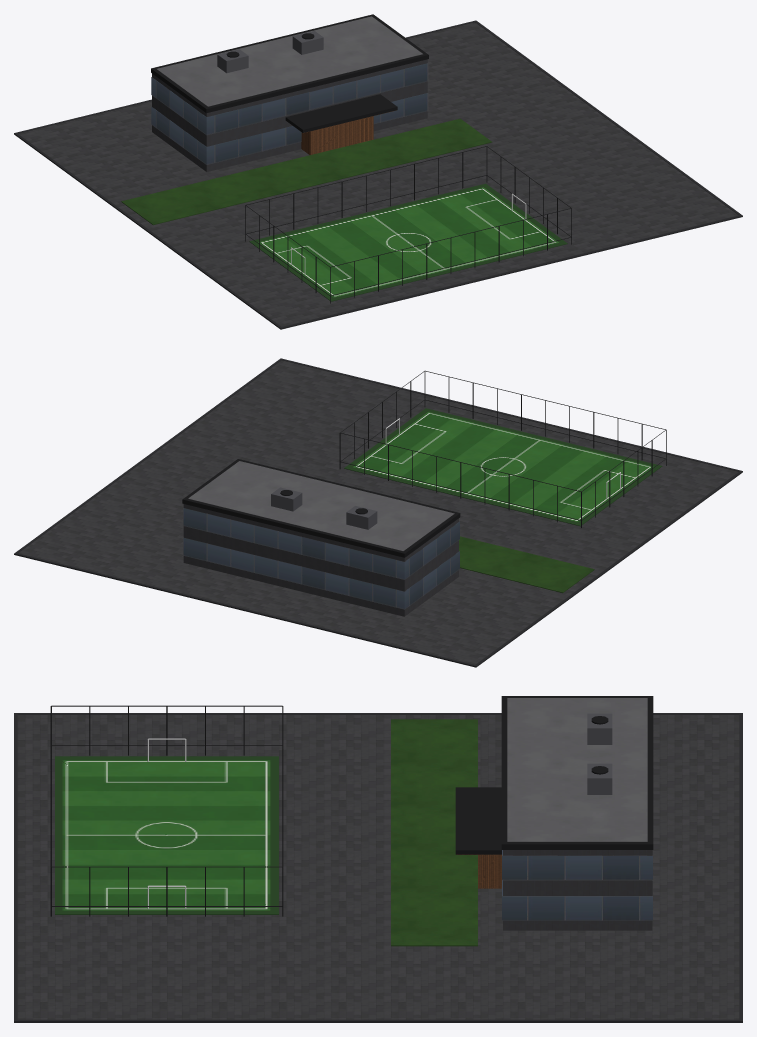
Rendered from academy_L1.glb.
3 renders of one model, top to bottom at view 1: azimuth 30°, elevation 25°; view 2: azimuth 150°, elevation 25°; view 3: azimuth 270°, elevation 25°, orthographic. The views are drawn at different scales.
Visible parts, largest first — view 1: paving_academy_L1, turf_cage_academy_L1, lawn_academy_L1, roofing_academy_L1, emissive_curtain_academy_L1, black_metal_academy_L1, cladding_academy_L1, concrete_dark_academy_L1, wood_academy_L1, steel_academy_L1; view 2: paving_academy_L1, turf_cage_academy_L1, emissive_curtain_academy_L1, roofing_academy_L1, cladding_academy_L1, black_metal_academy_L1, concrete_dark_academy_L1, lawn_academy_L1, steel_academy_L1; view 3: paving_academy_L1, turf_cage_academy_L1, roofing_academy_L1, lawn_academy_L1, black_metal_academy_L1, emissive_curtain_academy_L1, concrete_dark_academy_L1, cladding_academy_L1, steel_academy_L1, wood_academy_L1.
Boxes of the visible parts, x1=… form: paving_academy_L1: x1=18, y1=22, x2=738, y2=326; turf_cage_academy_L1: x1=249, y1=183, x2=567, y2=301; lawn_academy_L1: x1=121, y1=118, x2=492, y2=225; roofing_academy_L1: x1=157, y1=16, x2=422, y2=106; emissive_curtain_academy_L1: x1=151, y1=63, x2=428, y2=164; black_metal_academy_L1: x1=151, y1=14, x2=571, y2=303; cladding_academy_L1: x1=152, y1=59, x2=427, y2=171; concrete_dark_academy_L1: x1=14, y1=20, x2=742, y2=329; wood_academy_L1: x1=301, y1=110, x2=396, y2=154; steel_academy_L1: x1=217, y1=31, x2=323, y2=73; paving_academy_L1: x1=18, y1=360, x2=738, y2=664; turf_cage_academy_L1: x1=344, y1=408, x2=662, y2=526; emissive_curtain_academy_L1: x1=183, y1=508, x2=459, y2=609; roofing_academy_L1: x1=188, y1=461, x2=454, y2=551; cladding_academy_L1: x1=183, y1=504, x2=458, y2=616; black_metal_academy_L1: x1=182, y1=370, x2=666, y2=557; concrete_dark_academy_L1: x1=14, y1=358, x2=742, y2=667; lawn_academy_L1: x1=459, y1=536, x2=594, y2=592; steel_academy_L1: x1=271, y1=487, x2=377, y2=529; paving_academy_L1: x1=17, y1=715, x2=739, y2=1019; turf_cage_academy_L1: x1=55, y1=756, x2=278, y2=914; roofing_academy_L1: x1=507, y1=698, x2=647, y2=841; lawn_academy_L1: x1=391, y1=719, x2=477, y2=946; black_metal_academy_L1: x1=50, y1=696, x2=653, y2=916; emissive_curtain_academy_L1: x1=502, y1=850, x2=652, y2=920; concrete_dark_academy_L1: x1=14, y1=713, x2=742, y2=1022; cladding_academy_L1: x1=503, y1=850, x2=652, y2=930; steel_academy_L1: x1=587, y1=713, x2=612, y2=794; wood_academy_L1: x1=456, y1=854, x2=501, y2=888.
Bounding box in the file's own units: 58.6 × 9.44 × 58.6.
Materials: 11 (7 with a texture image).
